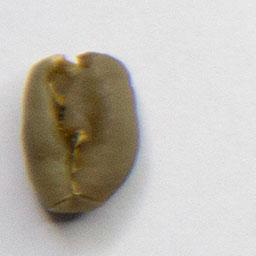peaberry: (17, 48, 146, 218)
